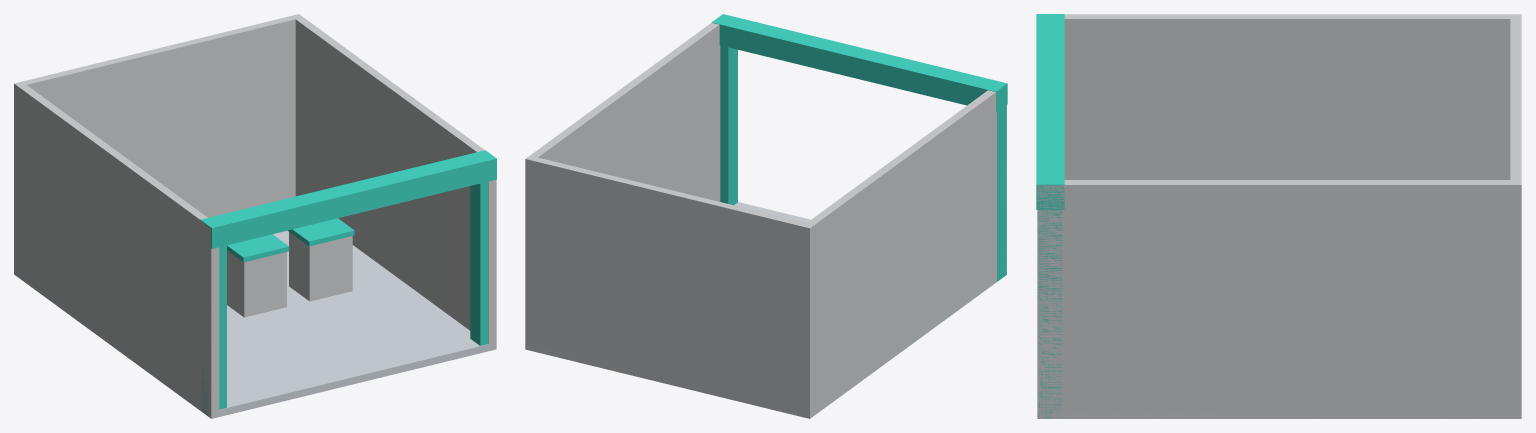
3 renders of one model, left to right at view 1: azimuth 30°, elevation 25°; view 2: azimuth 150°, elevation 25°; view 3: azimuth 270°, elevation 25°, orthographic. The views are drawn at different scales.
Visible parts, largest first — view 1: Exhibition Booth Concept; view 2: Exhibition Booth Concept; view 3: Exhibition Booth Concept.
Part boxes in pixels (x1,y1,x2,y2): Exhibition Booth Concept: (14, 14, 496, 418); Exhibition Booth Concept: (525, 14, 1007, 418); Exhibition Booth Concept: (1036, 14, 1521, 418).
Size of the model in its own units: 5 by 3.2 by 6.02.
